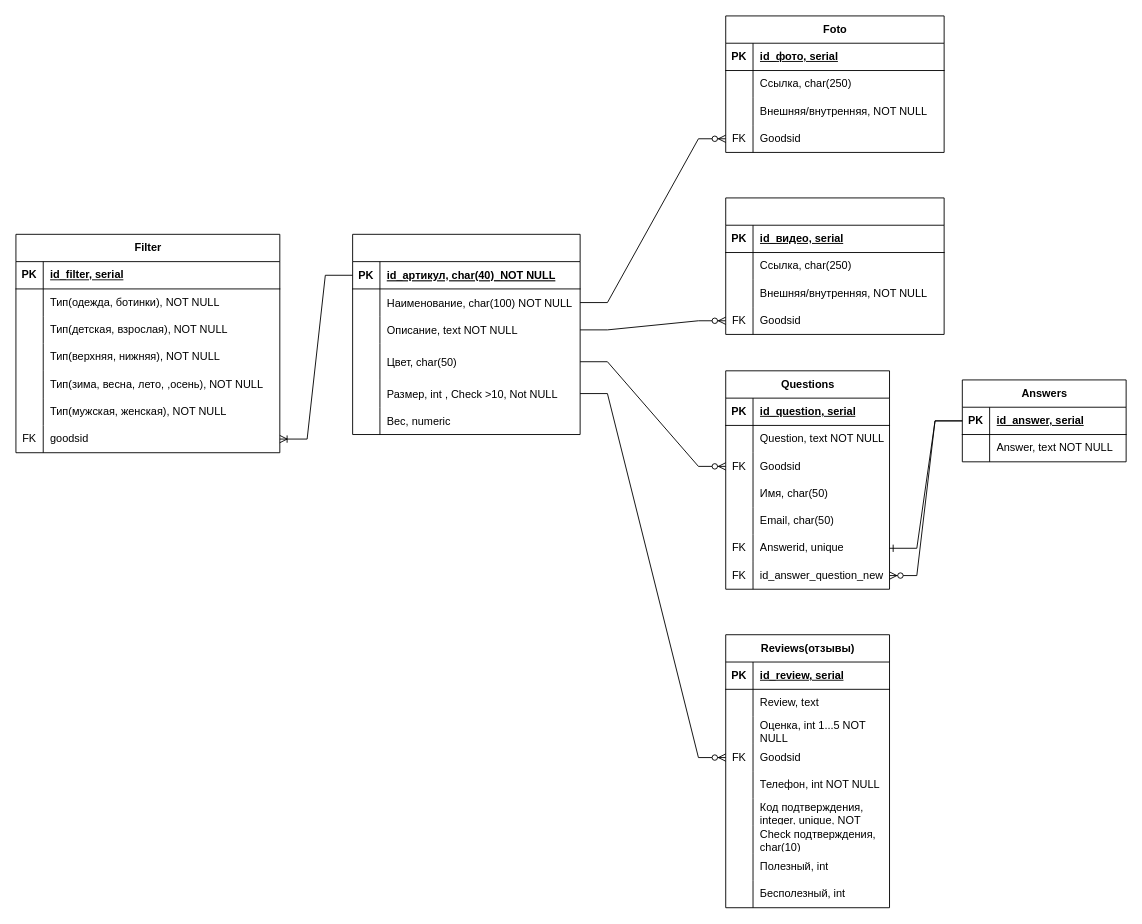
This 1142x924 diagram has some shape labels left out. The box of each missing label's shape, as (x1, y1, x2, y2) in pixels:
Goods: (352, 233, 580, 435)
Video: (725, 197, 944, 334)
